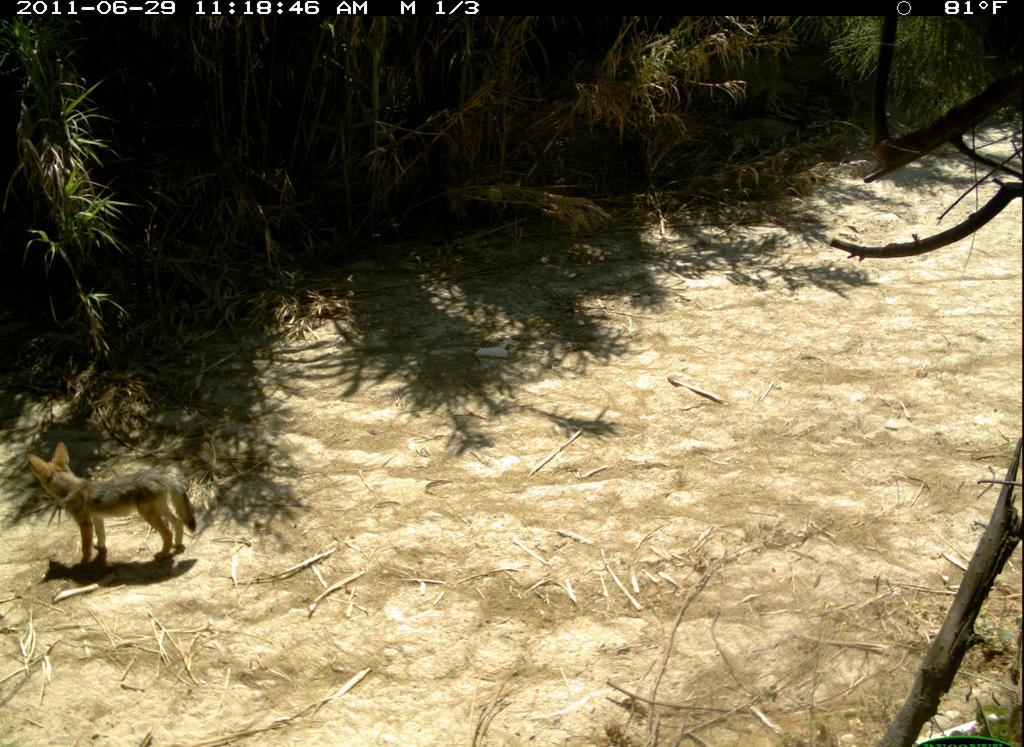coyote: (18, 429, 207, 582)
